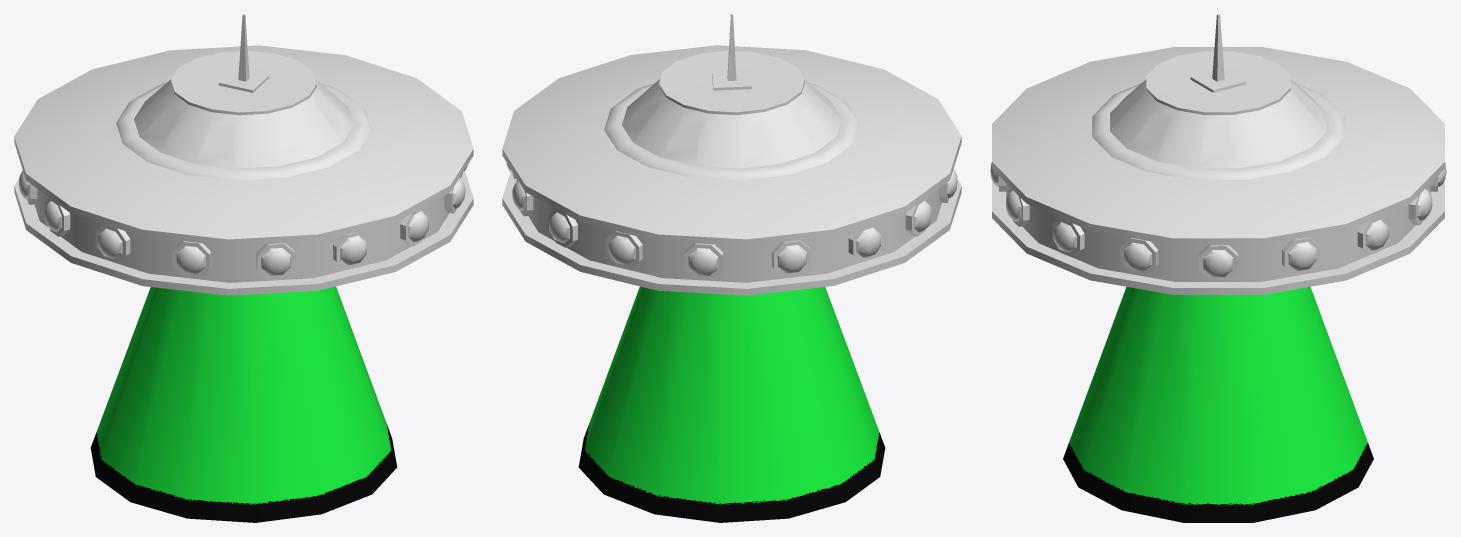
The model's file is ufo+beam.fbx.
3 views of the same model, side by side, from view 1: azimuth 30°, elevation 25°; view 2: azimuth 150°, elevation 25°; view 3: azimuth 270°, elevation 25° (orthographic).
Visible parts, largest first — view 1: ufo, BEAM; view 2: ufo, BEAM; view 3: ufo, BEAM.
Boxes of the visible parts, left/top/right/bottom form: ufo: left=14, top=14, right=473, bottom=295; BEAM: left=90, top=286, right=397, bottom=522; ufo: left=502, top=14, right=961, bottom=295; BEAM: left=578, top=286, right=885, bottom=522; ufo: left=990, top=14, right=1446, bottom=294; BEAM: left=1063, top=286, right=1373, bottom=522.
Size of the model in its own units: 2.95 by 3.17 by 2.95.
2 materials, 1 textured.
